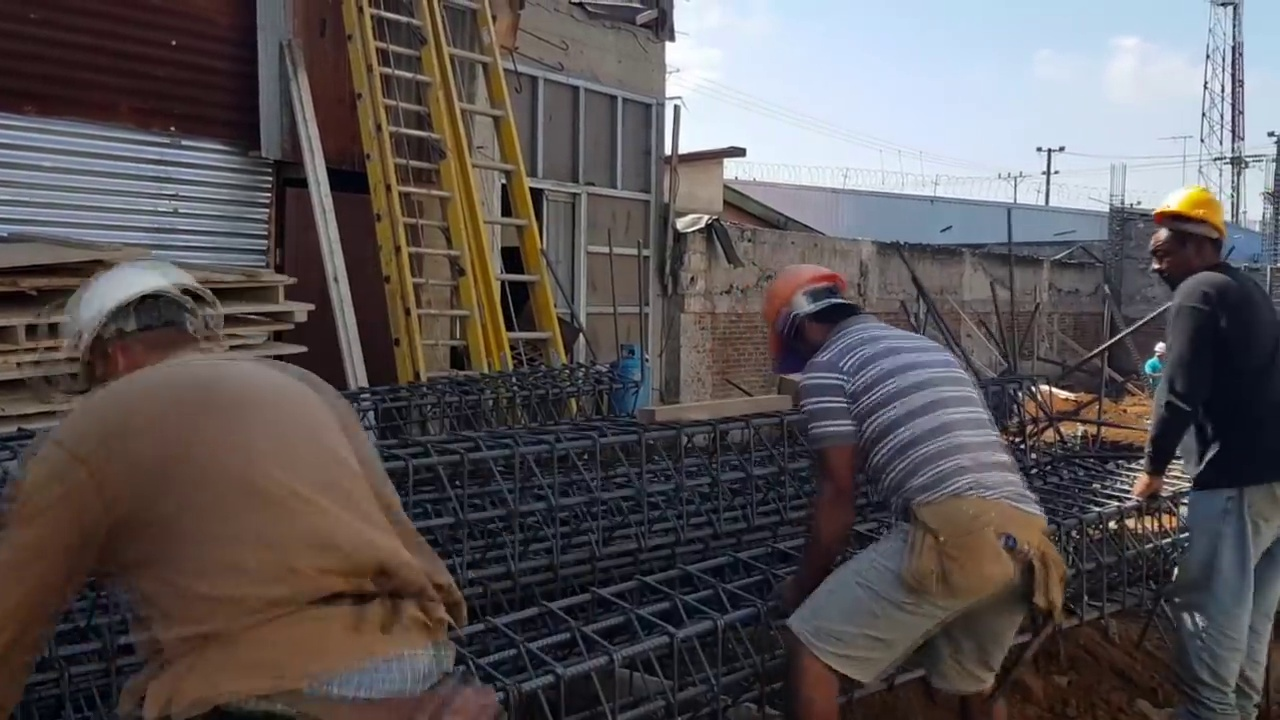helmet: (60, 257, 225, 370), (760, 265, 845, 376), (1144, 190, 1226, 246), (1154, 341, 1167, 355)
helmet-on: (58, 253, 224, 394), (759, 265, 866, 376), (1145, 190, 1226, 292), (1153, 340, 1168, 364)
person: (0, 251, 513, 720), (757, 263, 1060, 718), (1140, 188, 1280, 653), (1145, 340, 1169, 395)
